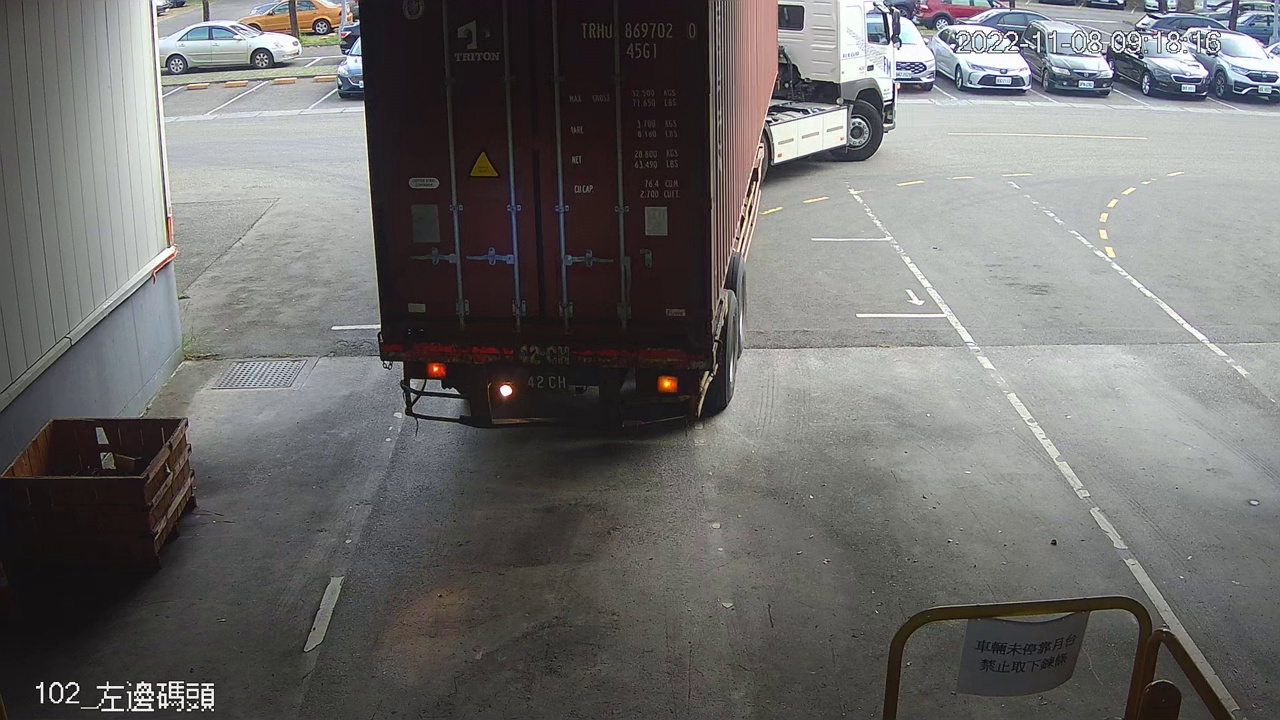container: (573, 15, 700, 64)
